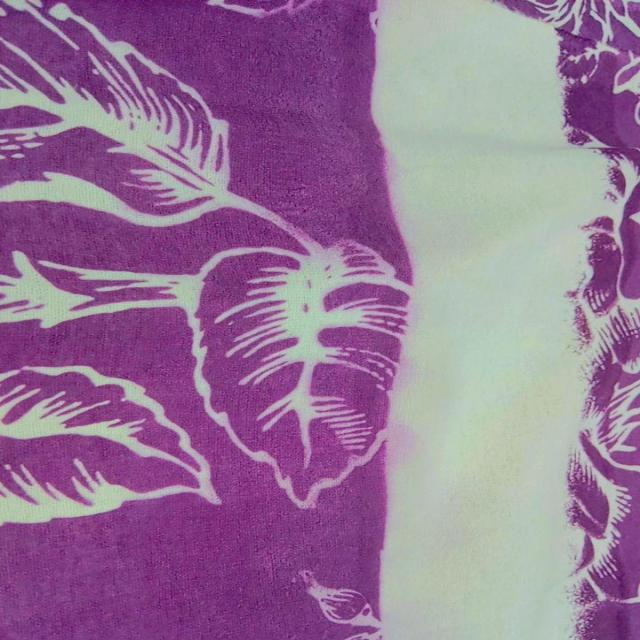baekra: (261, 7, 625, 639)
